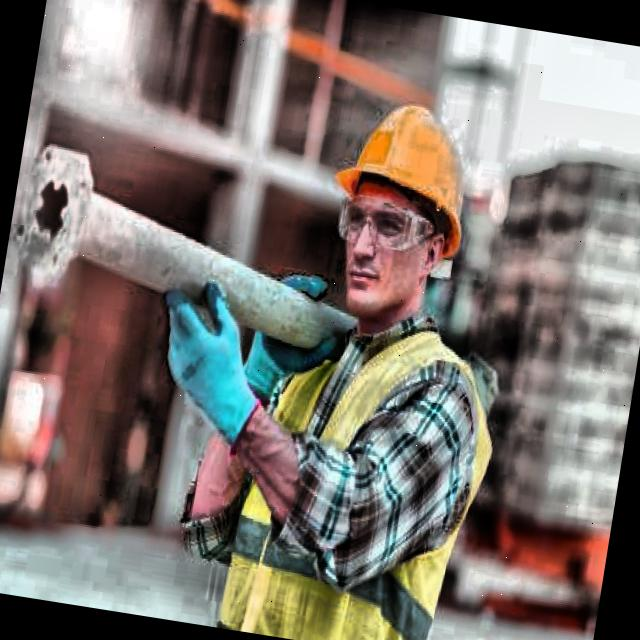helmet: (318, 81, 486, 346)
